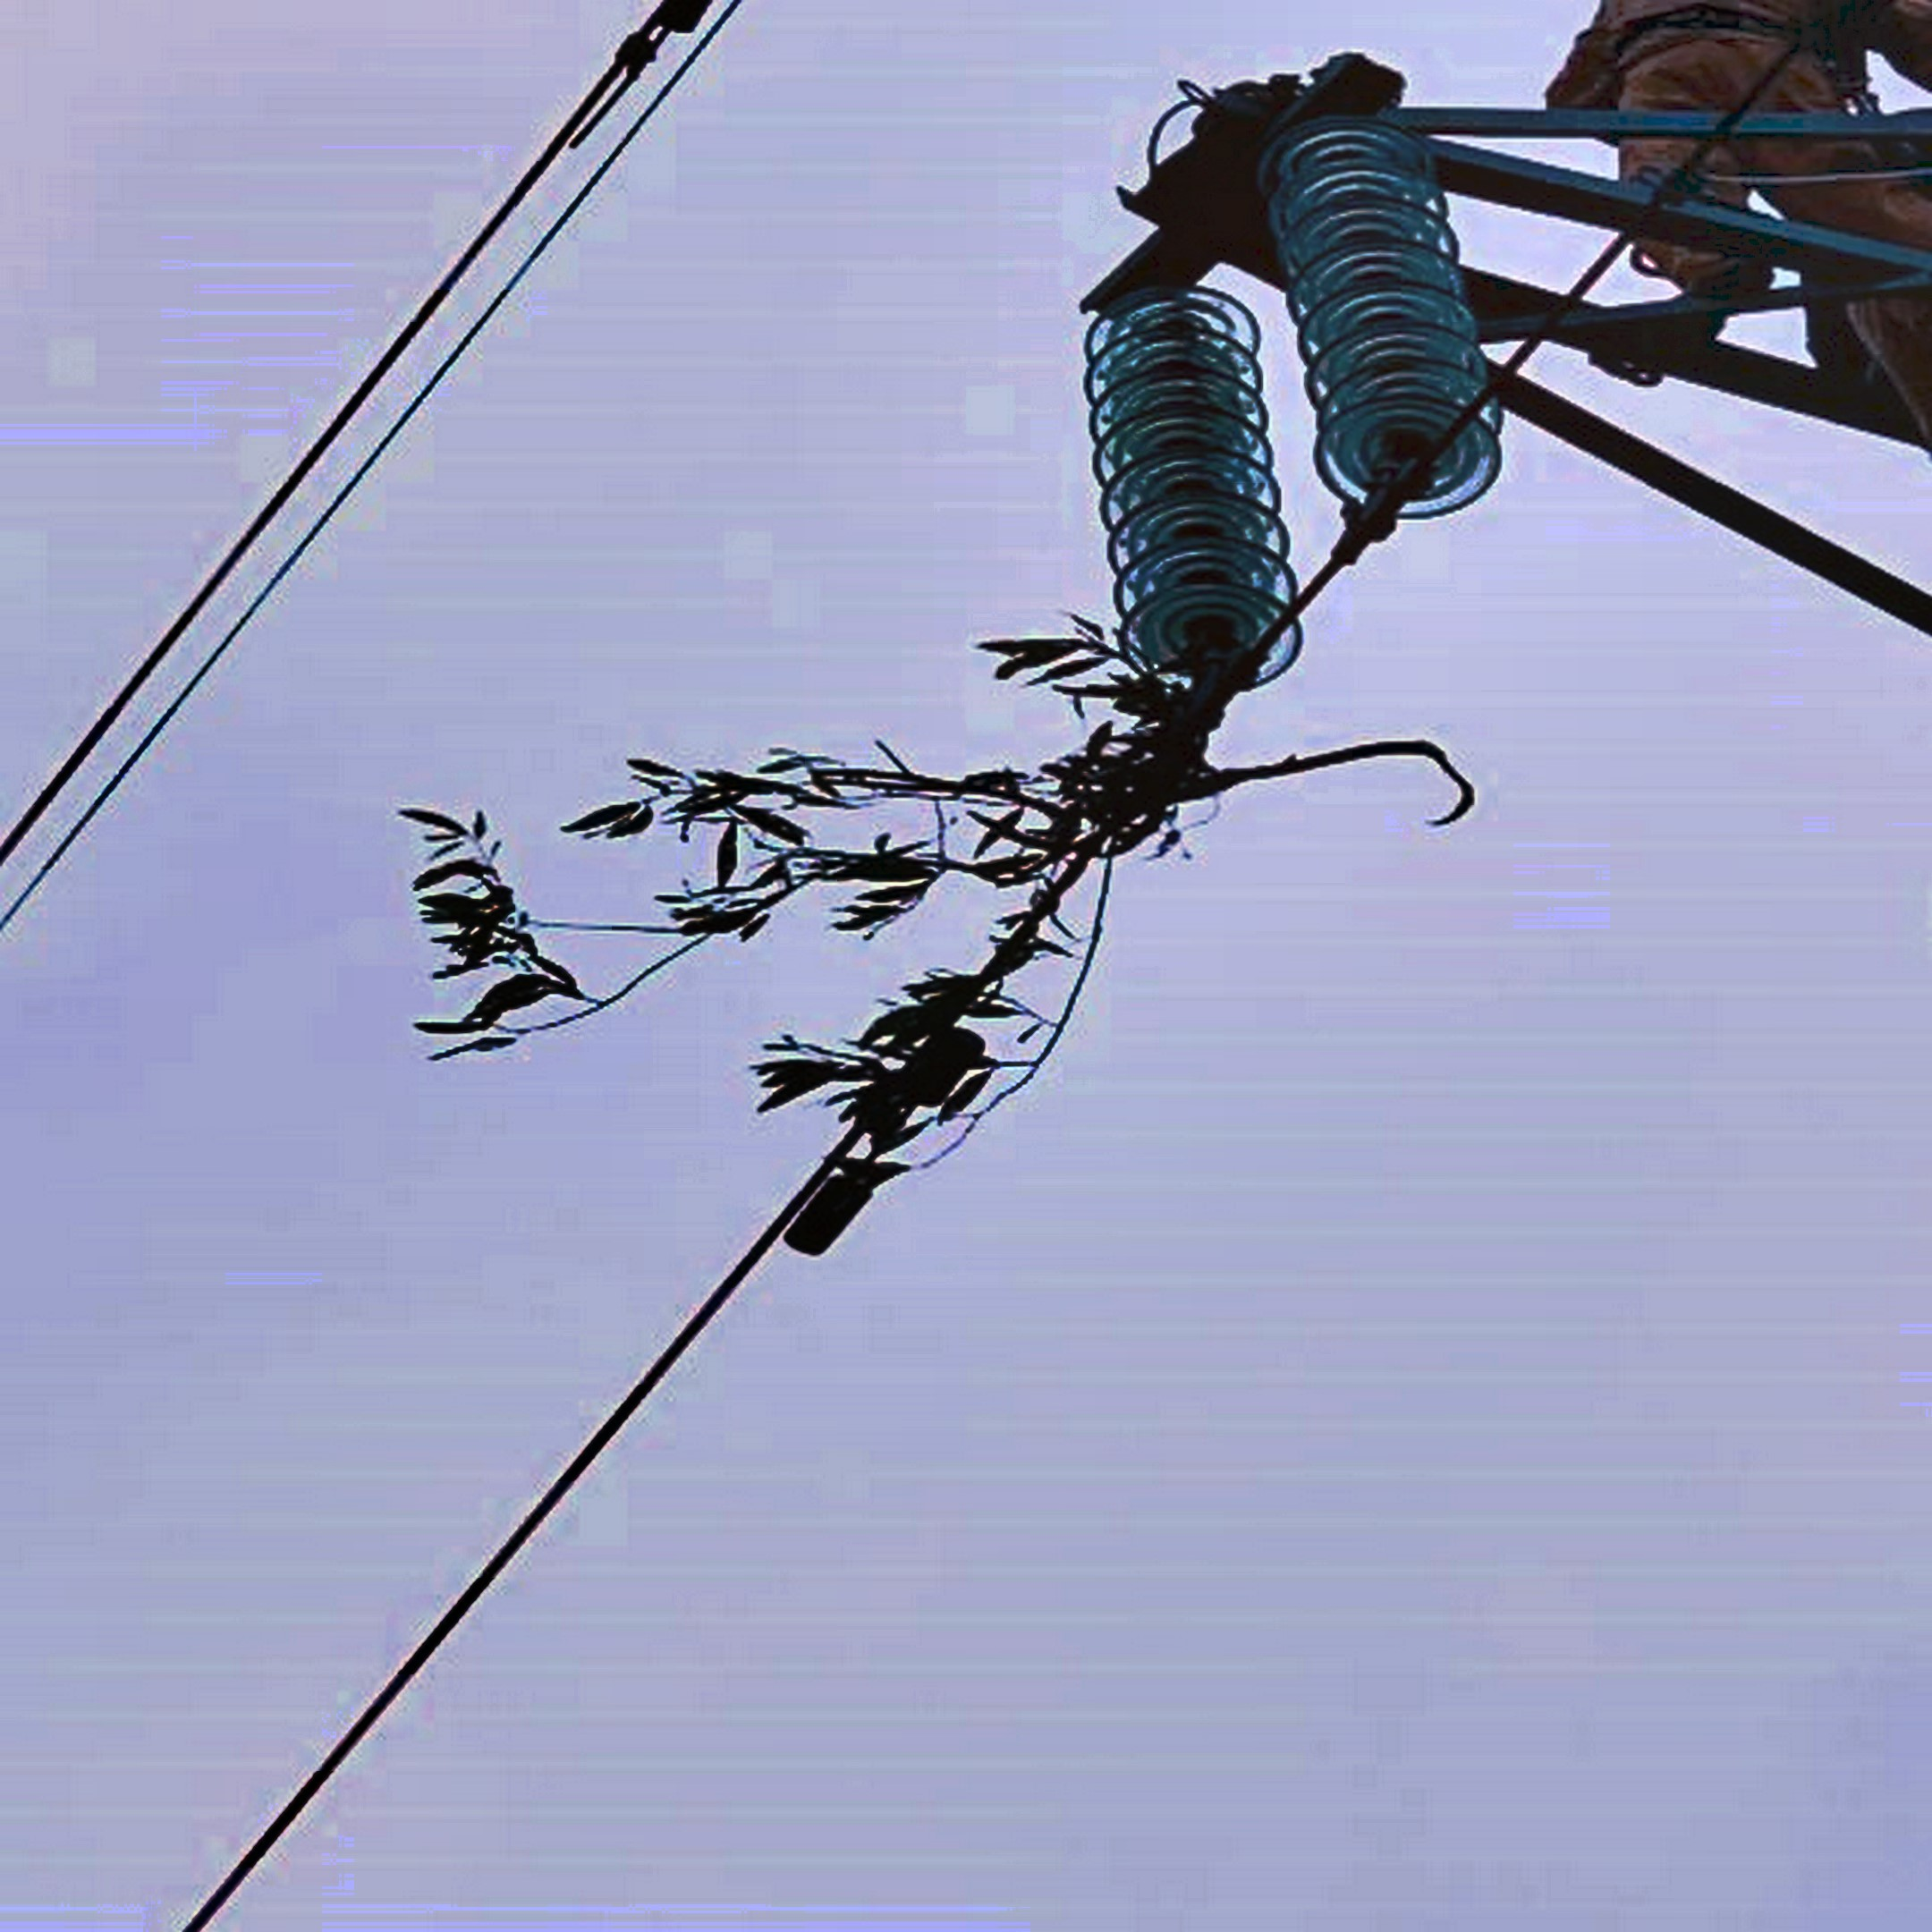wire foreign body: (382, 628, 1357, 1138)
